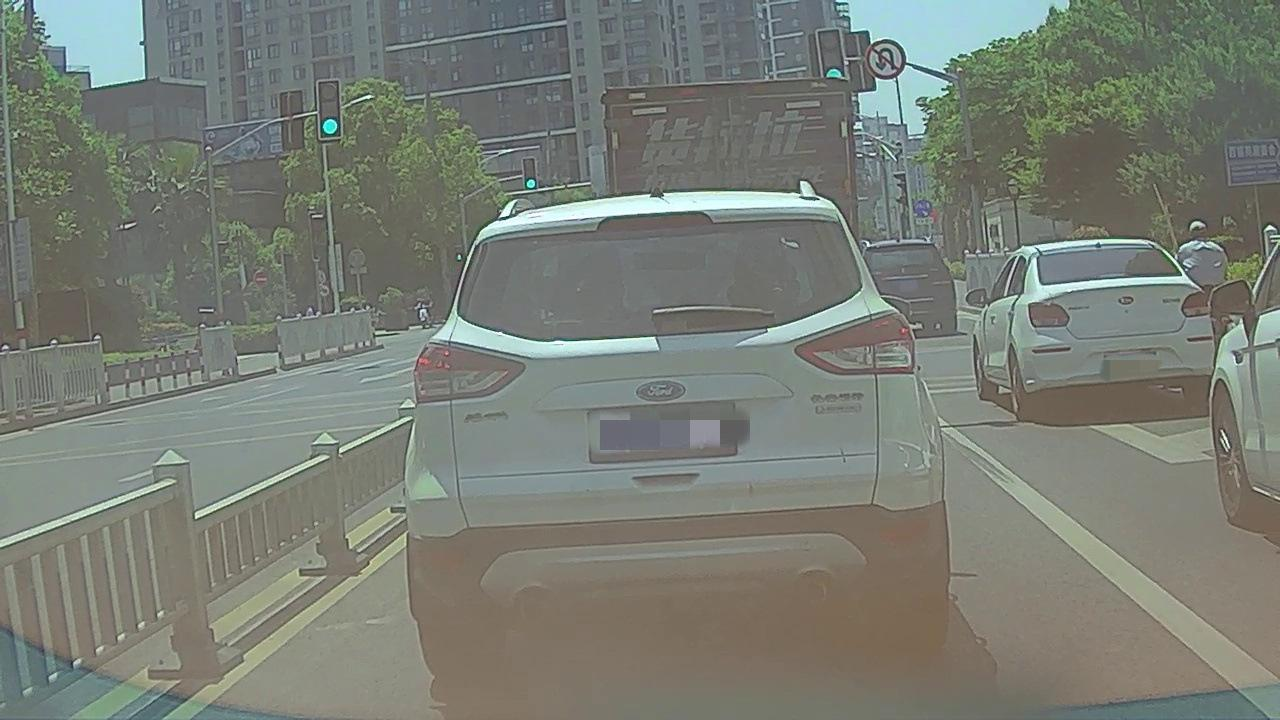traffic_light: (318, 80, 342, 138), (819, 30, 844, 79), (524, 159, 537, 188)
